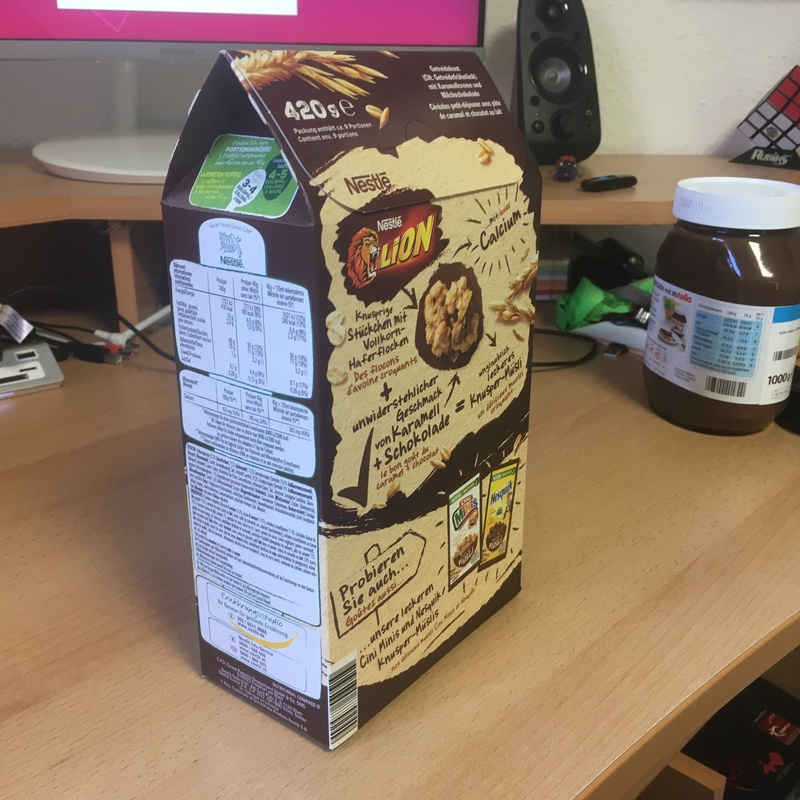cereals: (161, 49, 545, 750)
